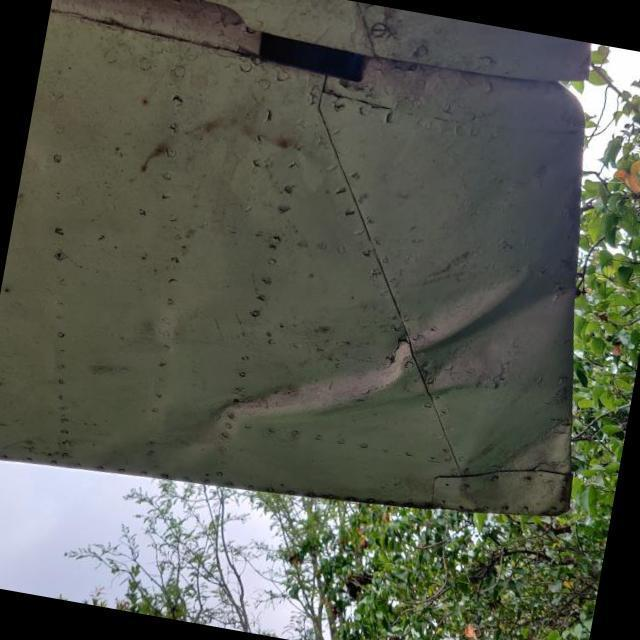Dent: (254, 201, 584, 478), (84, 360, 262, 509)
Rupture: (381, 333, 410, 375)
